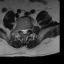CCS_normal: (23, 26, 25, 36)
LFS_normal: (27, 25, 29, 32)
LLS_normal: (25, 26, 27, 35)
RFS_normal: (19, 26, 21, 33)
RLS_normal: (21, 27, 23, 35)
